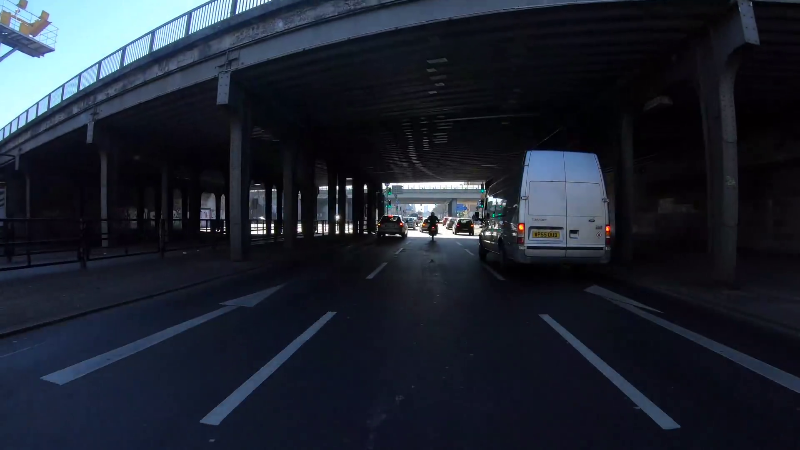Plate: (532, 229, 562, 239)
